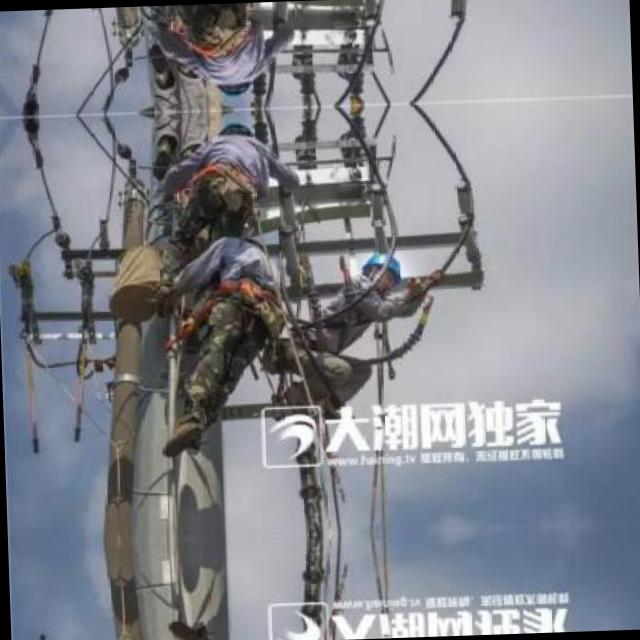helmet: (362, 248, 400, 286), (213, 110, 251, 148), (212, 70, 250, 108)
